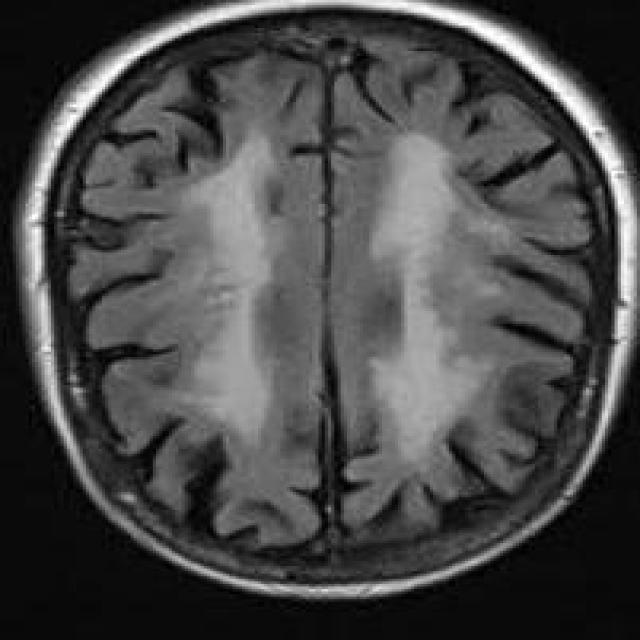notumor: (16, 0, 634, 594)
